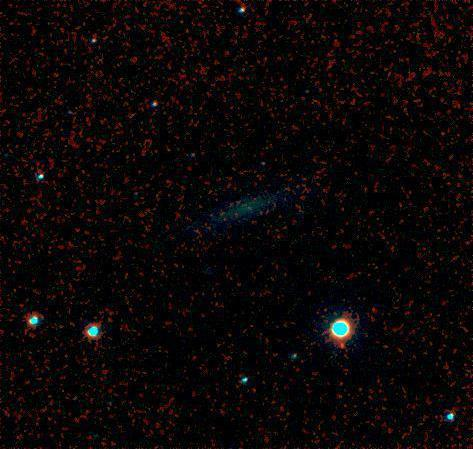star: (330, 328, 360, 358)
